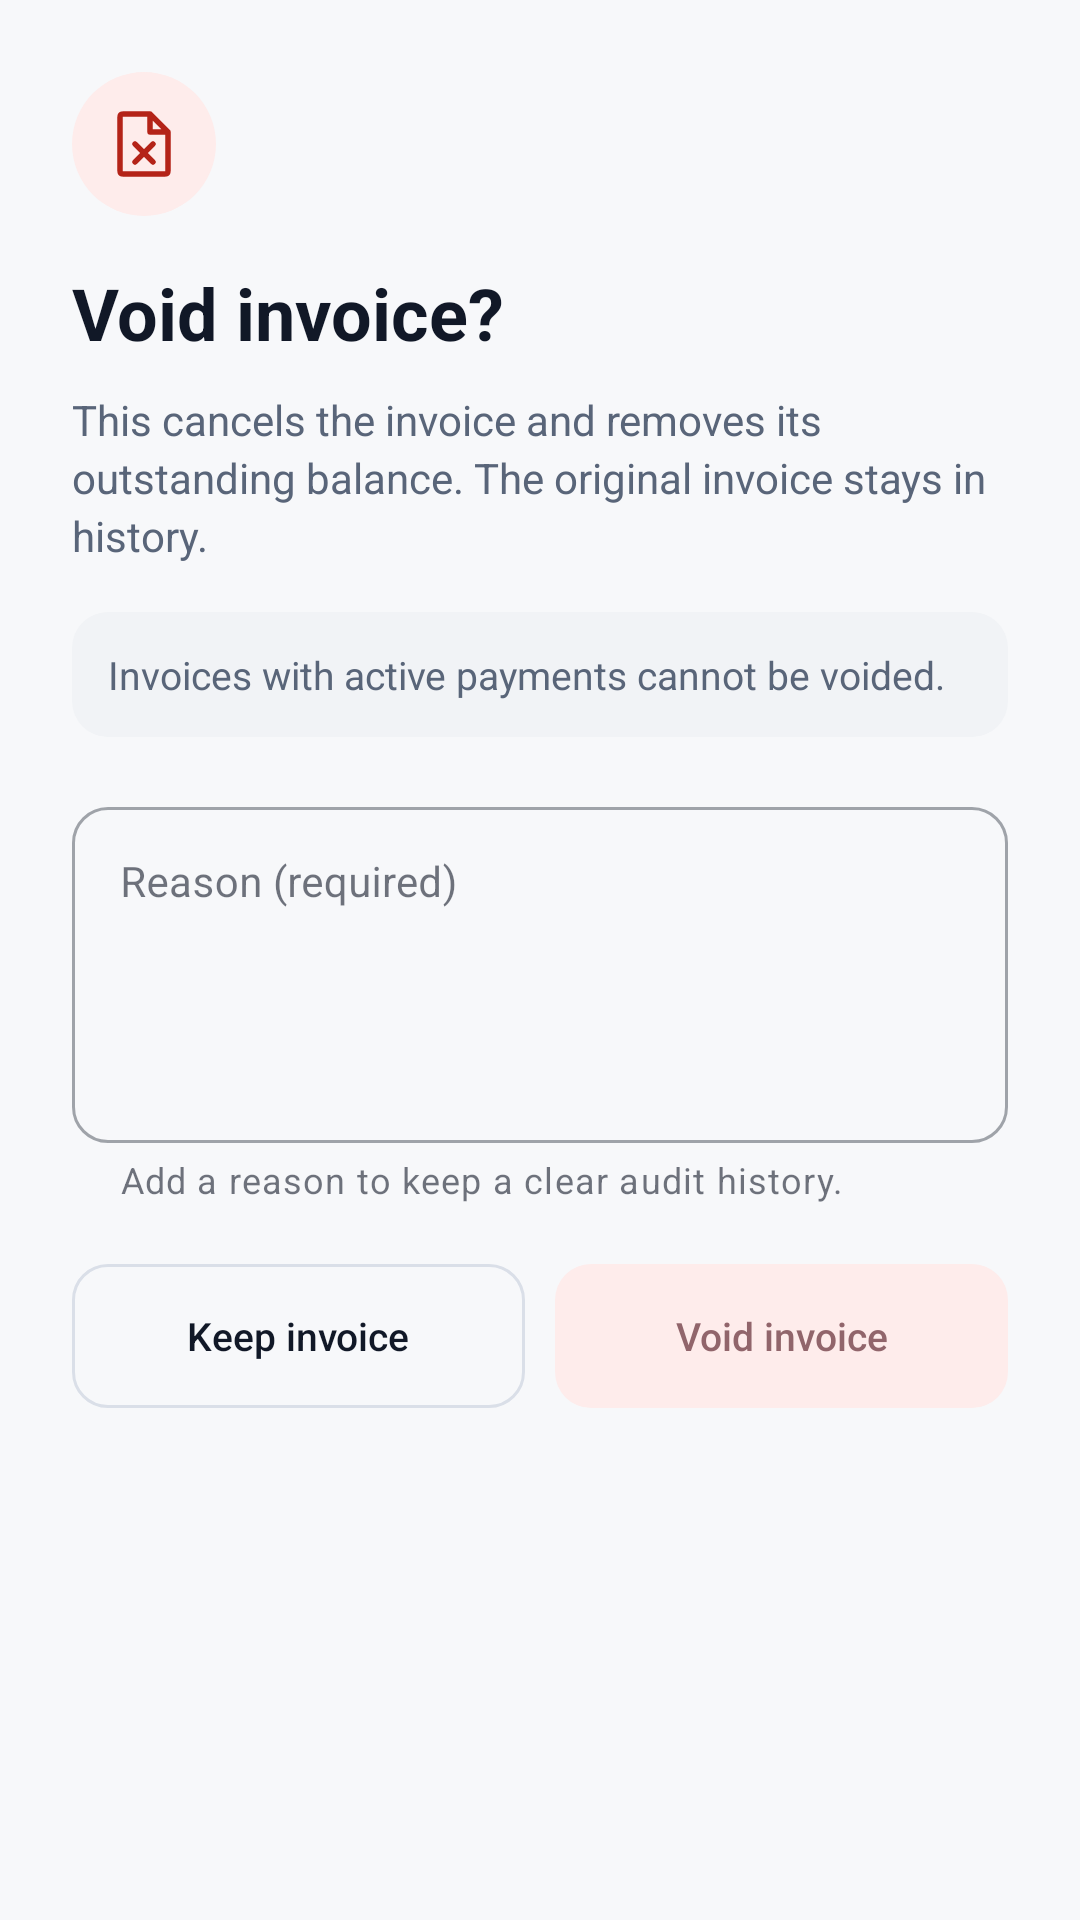

Named icons in this screenshot (1080 × 1920) and their bounding boxes, (x1, y1, x2, y2):
rvi void: (72, 72, 216, 216)
